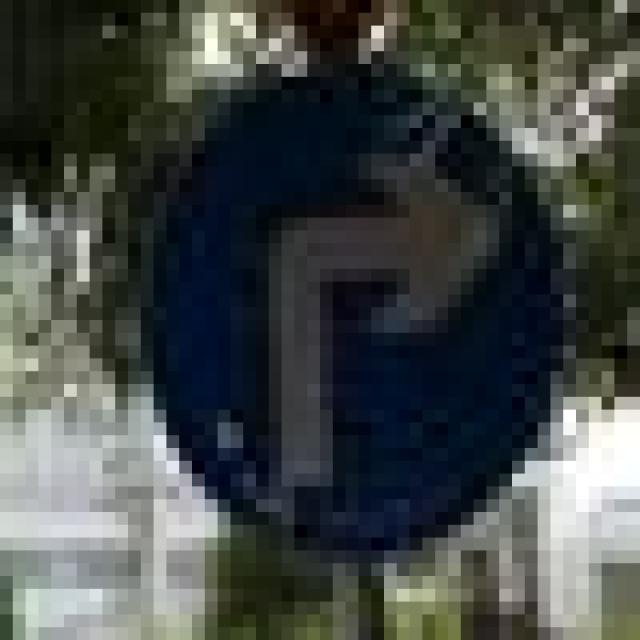railway_crossing: (128, 52, 550, 550)
